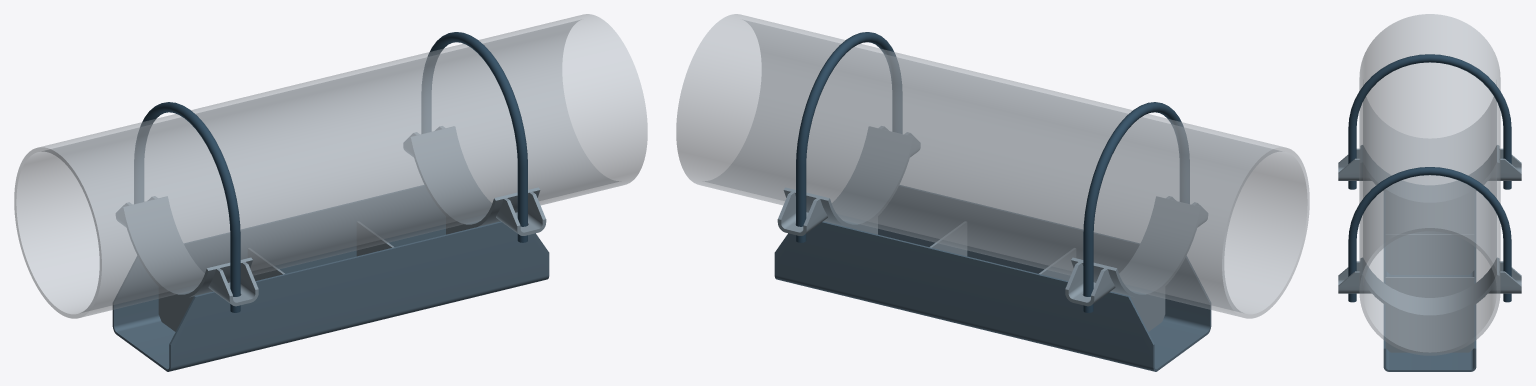
Rendered from TS-626.00.000-087-opora-dn273-H100-L680.glb.
3 views of the same model, side by side, from view 1: azimuth 30°, elevation 25°; view 2: azimuth 150°, elevation 25°; view 3: azimuth 270°, elevation 25° (orthographic). The views are drawn at different scales.
Visible parts, largest first — view 1: truba, skoba_0, podushka_5, podushka_6, homut_1, homut_0, ushko_8, ushko_10, rebro4_1, rebro5_4, rebro5_3; view 2: truba, skoba_0, podushka_5, podushka_6, homut_1, homut_0, ushko_7, ushko_9, rebro4_1, rebro5_4, rebro5_3; view 3: truba, rebro5_3, rebro4_2, podushka_6, rebro4_1, homut_1, skoba_0, homut_0, podushka_5, rebro5_4, ushko_9, ushko_10 (+2 smaller).
Boxes of the visible parts, box(x1,y1,x2,y2) form: truba: box(14, 14, 647, 318); skoba_0: box(112, 185, 549, 371); podushka_5: box(122, 196, 252, 298); podushka_6: box(409, 126, 540, 228); homut_1: box(421, 32, 527, 242); homut_0: box(134, 102, 240, 312); ushko_8: box(208, 262, 258, 306); ushko_10: box(496, 192, 546, 235); rebro4_1: box(158, 287, 212, 331); rebro5_4: box(356, 221, 394, 256); rebro5_3: box(248, 248, 284, 280); truba: box(676, 14, 1309, 318); skoba_0: box(774, 185, 1211, 371); podushka_5: box(1071, 196, 1201, 298); podushka_6: box(783, 126, 914, 228); homut_1: box(796, 32, 902, 242); homut_0: box(1083, 102, 1189, 312); ushko_7: box(1065, 262, 1115, 306); ushko_9: box(777, 192, 827, 235); rebro4_1: box(1111, 287, 1165, 331); rebro5_4: box(929, 221, 967, 256); rebro5_3: box(1039, 248, 1075, 280); truba: box(1359, 14, 1500, 355); rebro5_3: box(1385, 234, 1474, 274); rebro4_2: box(1385, 305, 1474, 352); podushka_6: box(1360, 257, 1499, 318); rebro4_1: box(1386, 193, 1473, 234); homut_1: box(1348, 167, 1511, 302); skoba_0: box(1383, 192, 1476, 371); homut_0: box(1348, 54, 1511, 189); podushka_5: box(1360, 145, 1499, 205); rebro5_4: box(1385, 277, 1474, 297); ushko_9: box(1488, 261, 1521, 293); ushko_10: box(1338, 261, 1371, 293).
Size of the model in its own units: 980 by 399 by 354.
